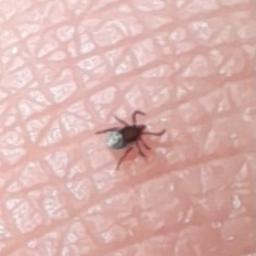Rhipicephalus sanguineus: (95, 109, 166, 173)
